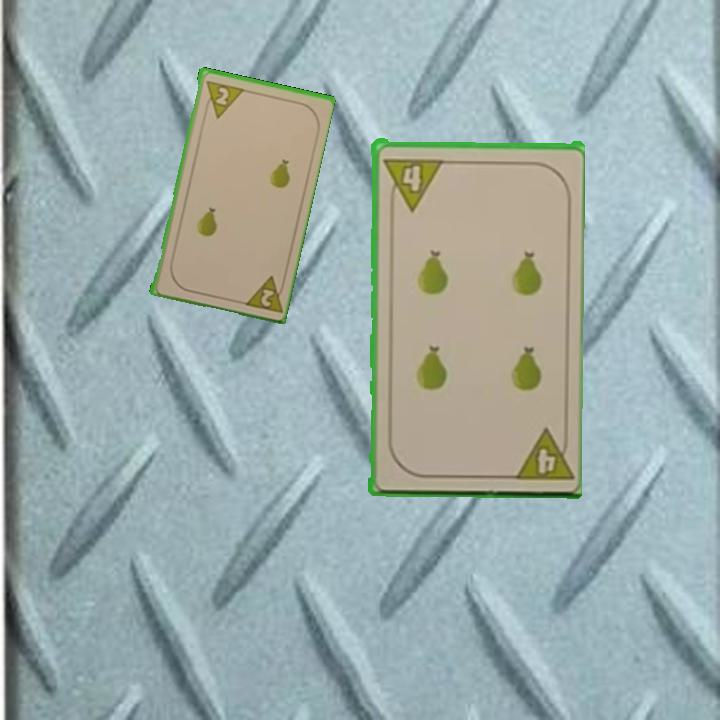2p: (239, 271, 288, 315), (201, 76, 245, 121)
4p: (507, 424, 573, 483), (379, 153, 444, 212)
